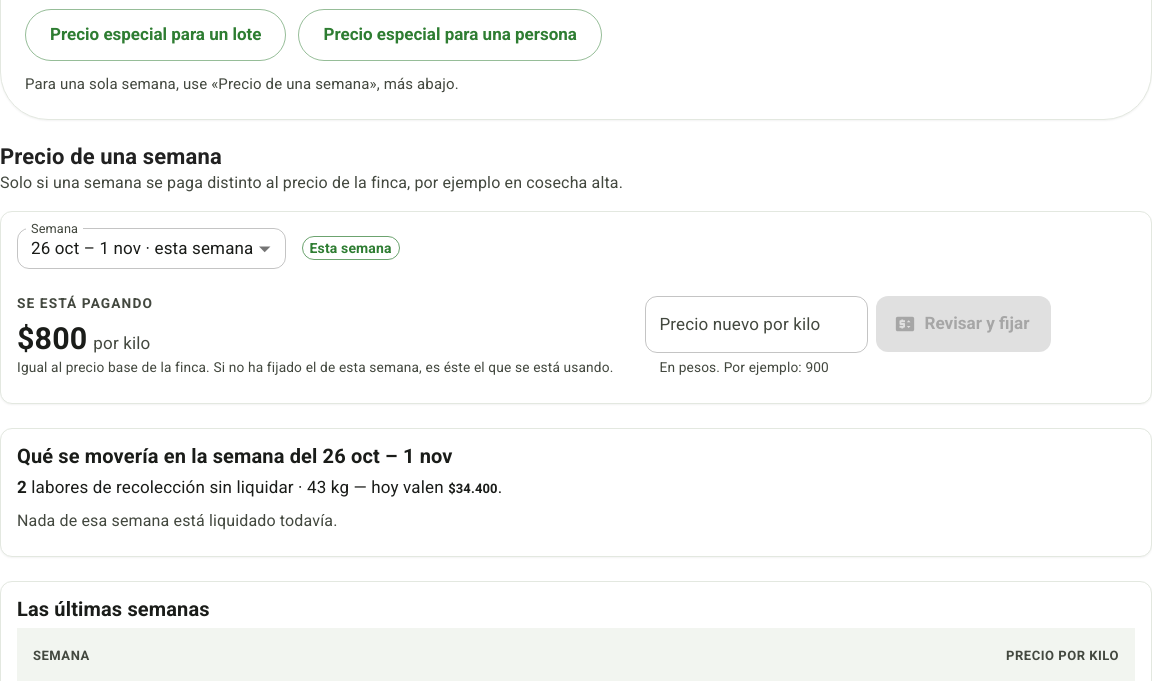
setting the week's price per kilo › saves the new price, and only after somebody confirms it
(page scrolled)
Type "900" into the field labelled "Precio nuevo por kilo". click: (757, 324)
box: [645,296,868,353]
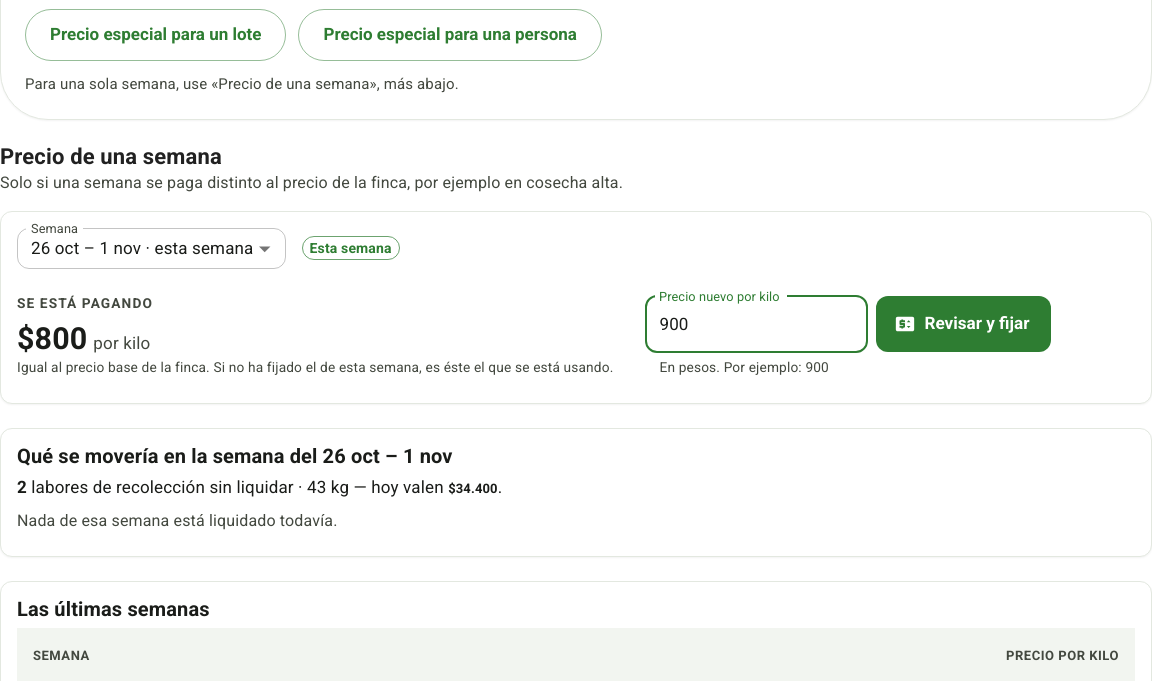
Note: "Revisar y fijar" writes nothing: it opens the list of what would move.
Click the button "Revisar y fijar". click: (964, 324)
box: [876,296,1051,352]
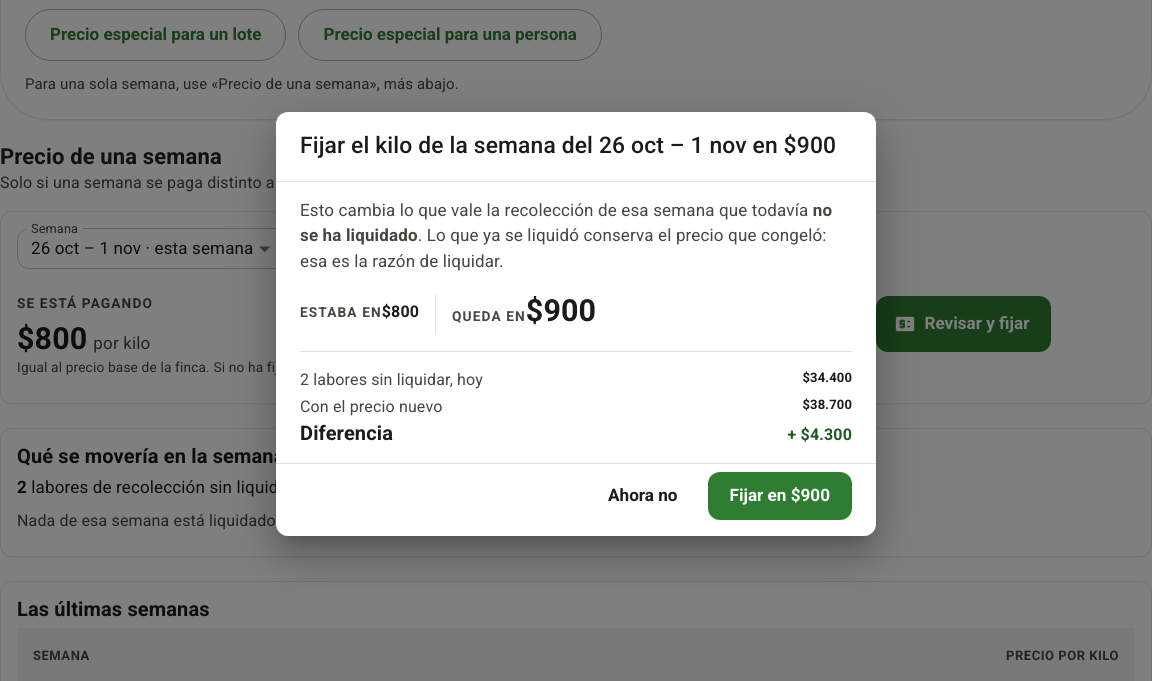
Expected: the text "Estaba en" is shown, [300,304,382,320]
Click the button "Fijar en $900". click: (780, 496)
box: [708,472,852,520]
(page scrolled)
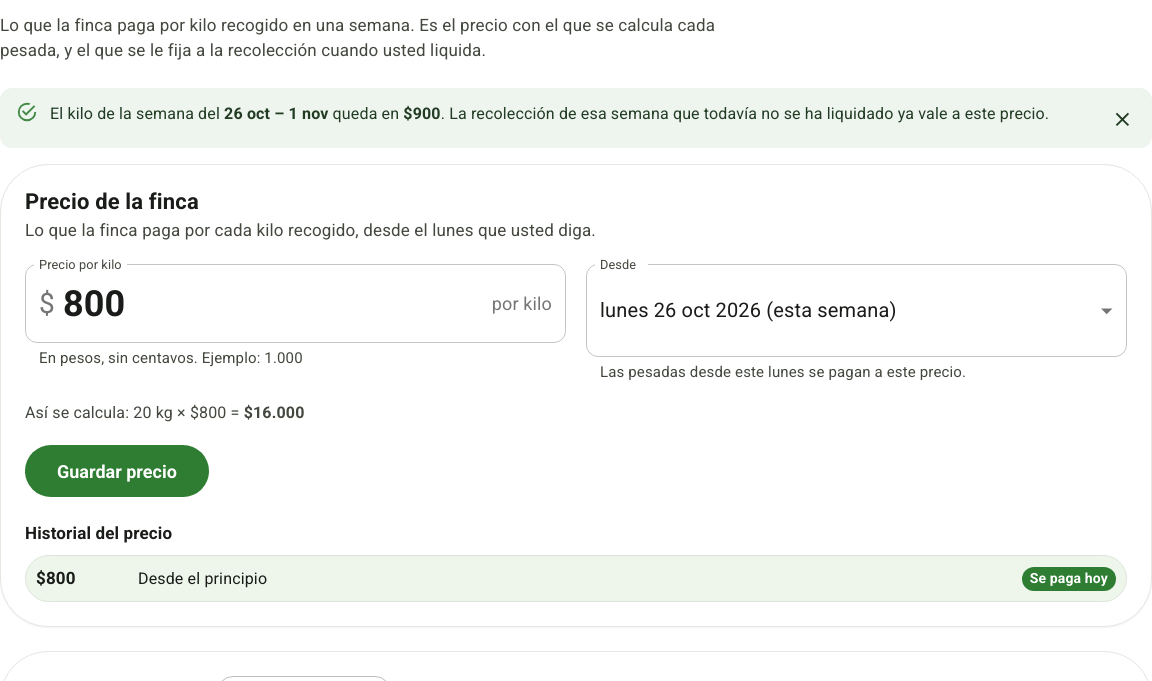
Expected: the text "La recolección de esa semana que todavía no se ha liquidado" is shown, [441,104,1049,122]
